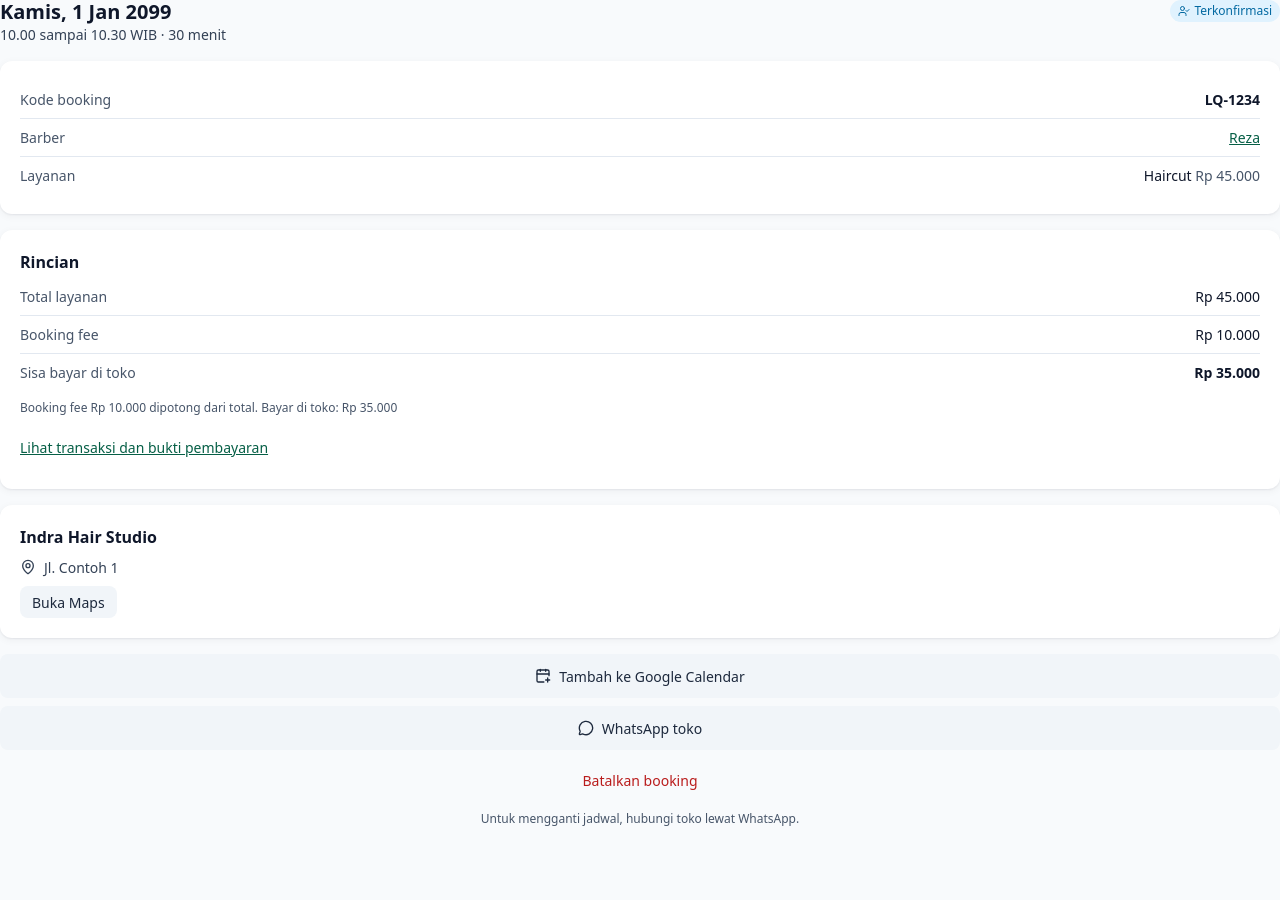
Test case: batal booking › dialog memperingatkan booking fee tidak dikembalikan lalu membatalkan
The width and height of the screenshot is (1280, 900).
Later steps or results of the test are not shown.
Click the button "Batalkan booking" at (640, 780), box [0, 758, 1279, 802]
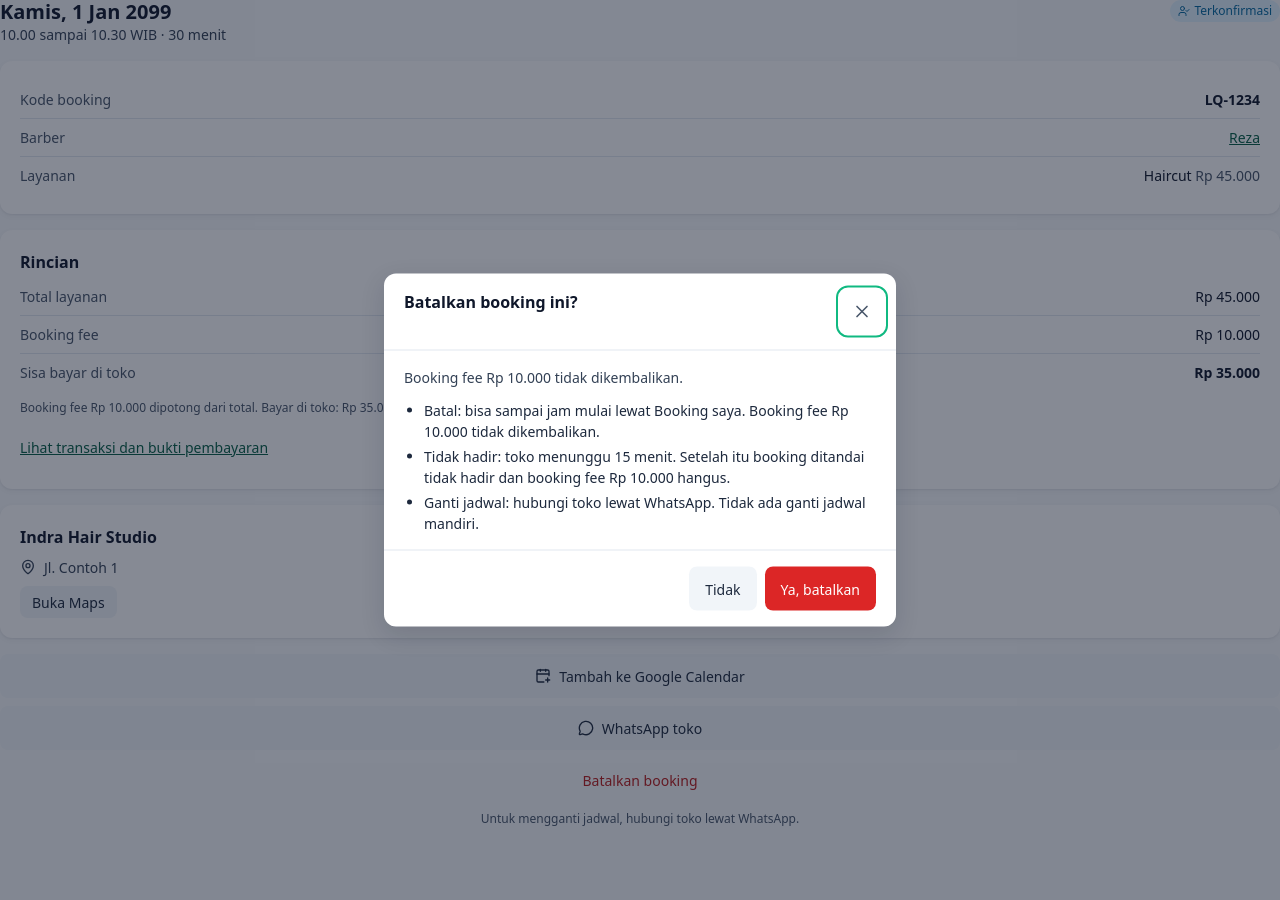
Expected: the text "Booking fee Rp 10.000 tidak dikembalikan." is shown, [404, 368, 683, 386]
